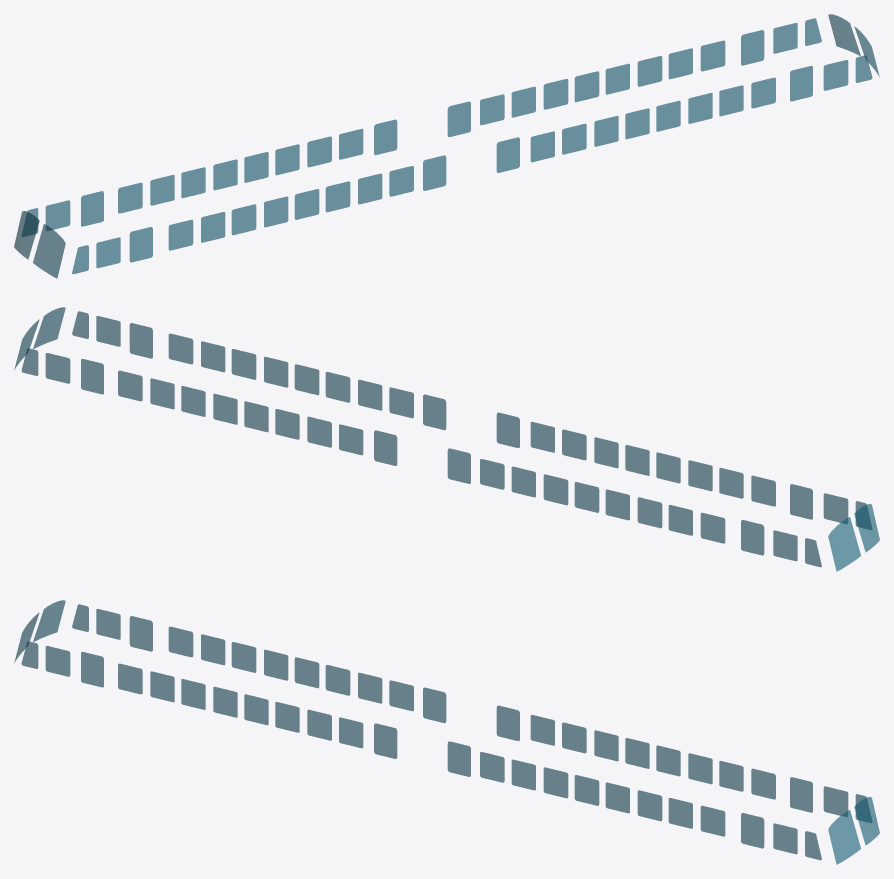
File: glasses.fbx
The picture shows the model from 3 angles, top to bottom: view 1: azimuth 30°, elevation 25°; view 2: azimuth 150°, elevation 25°; view 3: azimuth 330°, elevation 25°; orthographic projection.
Parts seen in each view (by area): view 1: vagon_grp_glasses; view 2: vagon_grp_glasses; view 3: vagon_grp_glasses.
Part boxes in pixels (left/top/right/bottom): vagon_grp_glasses: left=14, top=14, right=879, bottom=278; vagon_grp_glasses: left=14, top=307, right=879, bottom=571; vagon_grp_glasses: left=14, top=600, right=879, bottom=864.
Size of the model in its own units: 2569 by 117 by 270.
